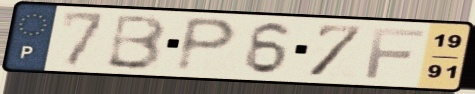6: (242, 20, 294, 77)
7: (309, 23, 365, 79), (58, 9, 107, 69)
B: (102, 13, 169, 72)
F: (363, 26, 428, 81)
P: (172, 14, 242, 75)
